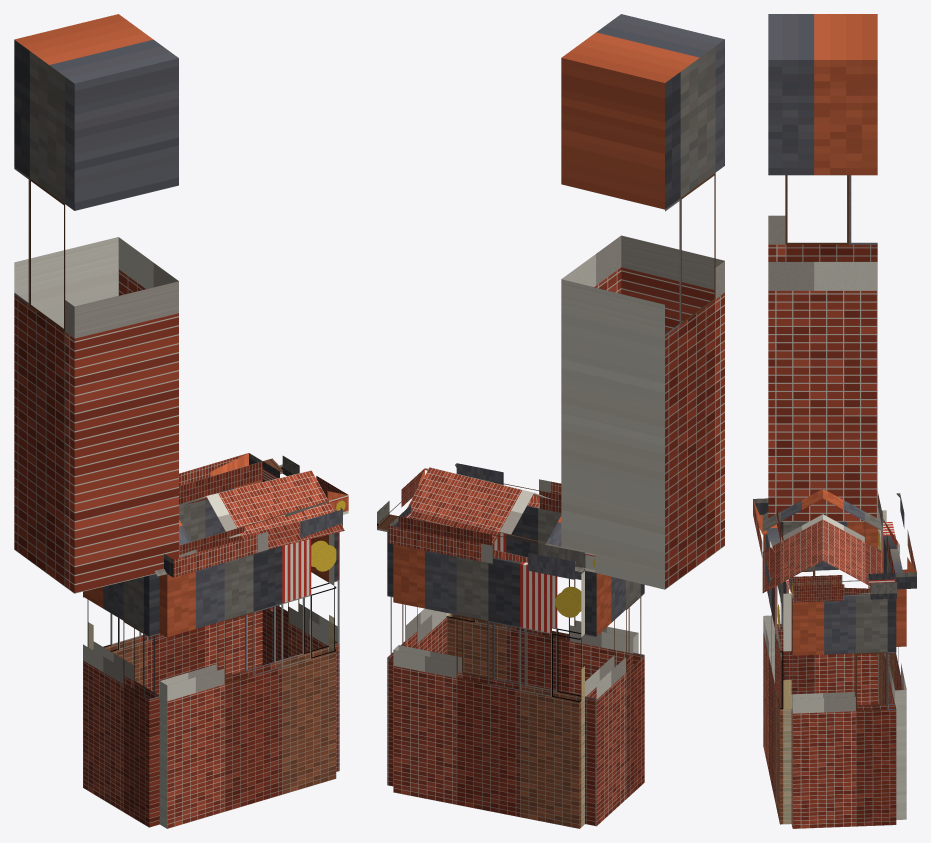
3 renders of one model, left to right at view 1: azimuth 30°, elevation 25°; view 2: azimuth 150°, elevation 25°; view 3: azimuth 270°, elevation 25°, orthographic. The views are drawn at different scales.
Parts seen in each view (by area): view 1: 717954682__chimney_0_xb, 717954682__wall_3_xb, 717954682__wall_0_xb, 717954682__wall_1_xb, 717954682_roof_-1_xb, 717954682__wall_2_xb, 717954682__cornice_3, 717954682__cornice_1, 717954682__cornice_2; view 2: 717954682__chimney_0_xb, 717954682__wall_1_xb, 717954682__wall_0_xb, 717954682__wall_3_xb, 717954682_roof_1_xb, 717954682__cornice_1, 717954682__wall_2_xb, 717954682__cornice_3, 717954682__cornice_2; view 3: 717954682__chimney_0_xb, 717954682__wall_2_xb, 717954682__wall_3_xb, 717954682__wall_0_xb, 717954682__wall_1_xb, 717954682_roof_-1_xb, 717954682_roof_1_xb, 717954682__cornice_2, 717954682__cornice_1, 717954682__cornice_3.
Boxes of the visible parts, x1,y1,x2,y2 form: 717954682__chimney_0_xb: (14,14,178,593); 717954682__wall_3_xb: (159,533,336,828); 717954682__wall_0_xb: (83,574,159,827); 717954682__wall_1_xb: (87,479,262,695); 717954682_roof_-1_xb: (154,470,344,576); 717954682__wall_2_xb: (262,479,339,771); 717954682__cornice_3: (164,501,342,577); 717954682__cornice_1: (179,453,262,504); 717954682__cornice_2: (262,456,348,514); 717954682__chimney_0_xb: (561,14,724,589); 717954682__wall_1_xb: (393,544,584,828); 717954682__wall_0_xb: (585,571,644,826); 717954682__wall_3_xb: (446,505,638,695); 717954682_roof_1_xb: (407,467,584,572); 717954682__cornice_1: (388,516,584,579); 717954682__wall_2_xb: (387,532,446,786); 717954682__cornice_3: (455,463,561,512); 717954682__cornice_2: (377,468,428,532); 717954682__chimney_0_xb: (768,14,877,521); 717954682__wall_2_xb: (791,592,896,828); 717954682__wall_3_xb: (763,524,791,824); 717954682__wall_0_xb: (777,521,878,705); 717954682__wall_1_xb: (878,510,906,819); 717954682_roof_-1_xb: (762,489,822,592); 717954682_roof_1_xb: (823,489,882,585); 717954682__cornice_2: (791,573,896,602); 717954682__cornice_1: (878,493,916,589); 717954682__cornice_3: (753,498,791,592).
Size of the model in its own units: 0.4138 by 1.05 by 0.2252.
1 material, 1 textured.
